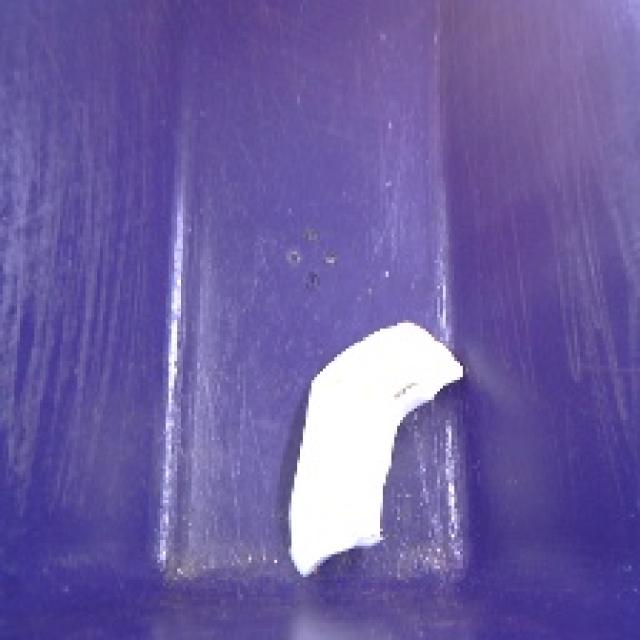china: (274, 316, 480, 587)
